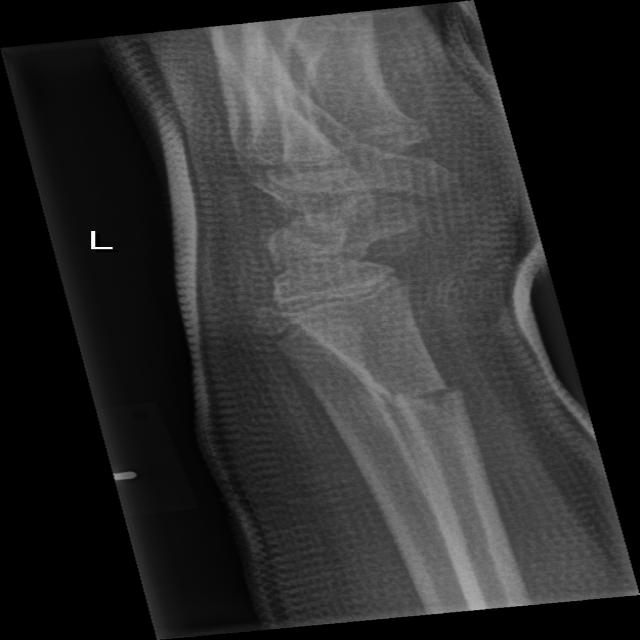radius fracture: (305, 334, 524, 503)
